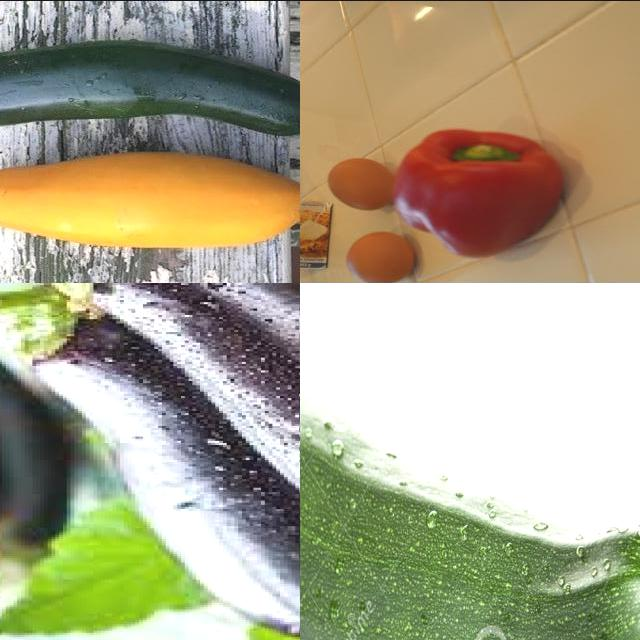bell_pepper: (413, 134, 568, 272)
egg: (342, 229, 420, 283), (327, 154, 395, 208)
eggplant: (14, 300, 301, 640), (41, 283, 301, 563)
zucchini: (301, 365, 640, 640)
